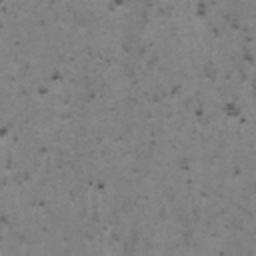Oxide scale of temperature system: (124, 0, 254, 118), (124, 208, 193, 256), (37, 70, 95, 102), (0, 123, 31, 181), (237, 205, 253, 217), (179, 157, 191, 171), (74, 12, 85, 26), (96, 180, 105, 191)
